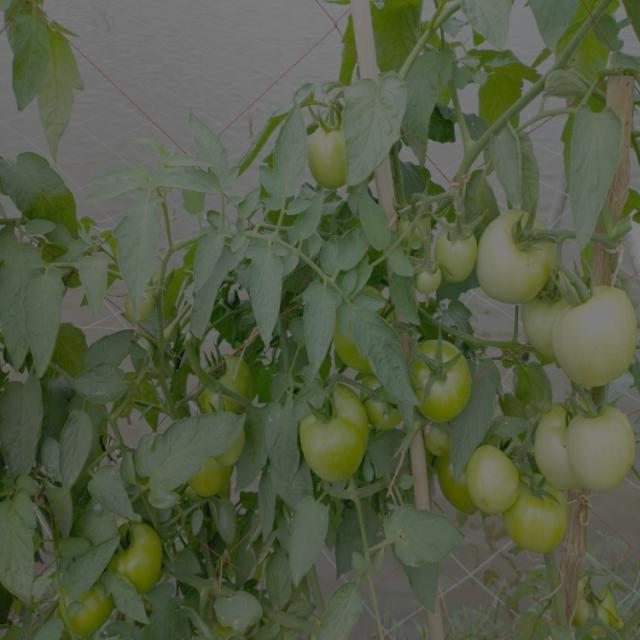tomato: (553, 286, 640, 389), (482, 212, 565, 301), (300, 390, 372, 490), (405, 332, 479, 424), (295, 108, 362, 204), (572, 402, 640, 493), (504, 495, 580, 564), (111, 519, 174, 591), (325, 311, 392, 376), (525, 405, 580, 484), (428, 208, 480, 288), (462, 446, 522, 513), (176, 455, 244, 504), (515, 289, 559, 363), (201, 351, 255, 411), (62, 584, 117, 640), (202, 412, 256, 468), (430, 440, 471, 513), (372, 394, 407, 439)
